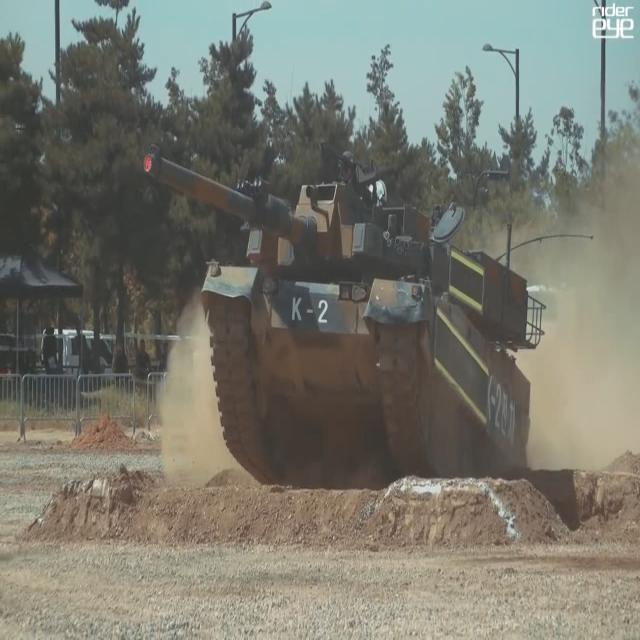korea tank: (140, 138, 548, 492)
